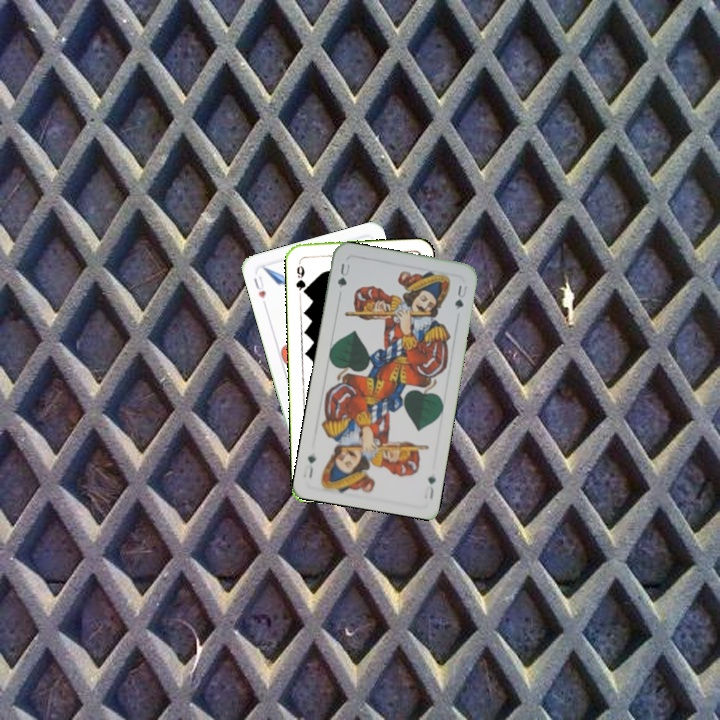G9: (292, 257, 309, 297)
GU: (333, 259, 353, 290), (424, 472, 438, 502)
HU: (249, 272, 268, 301)
